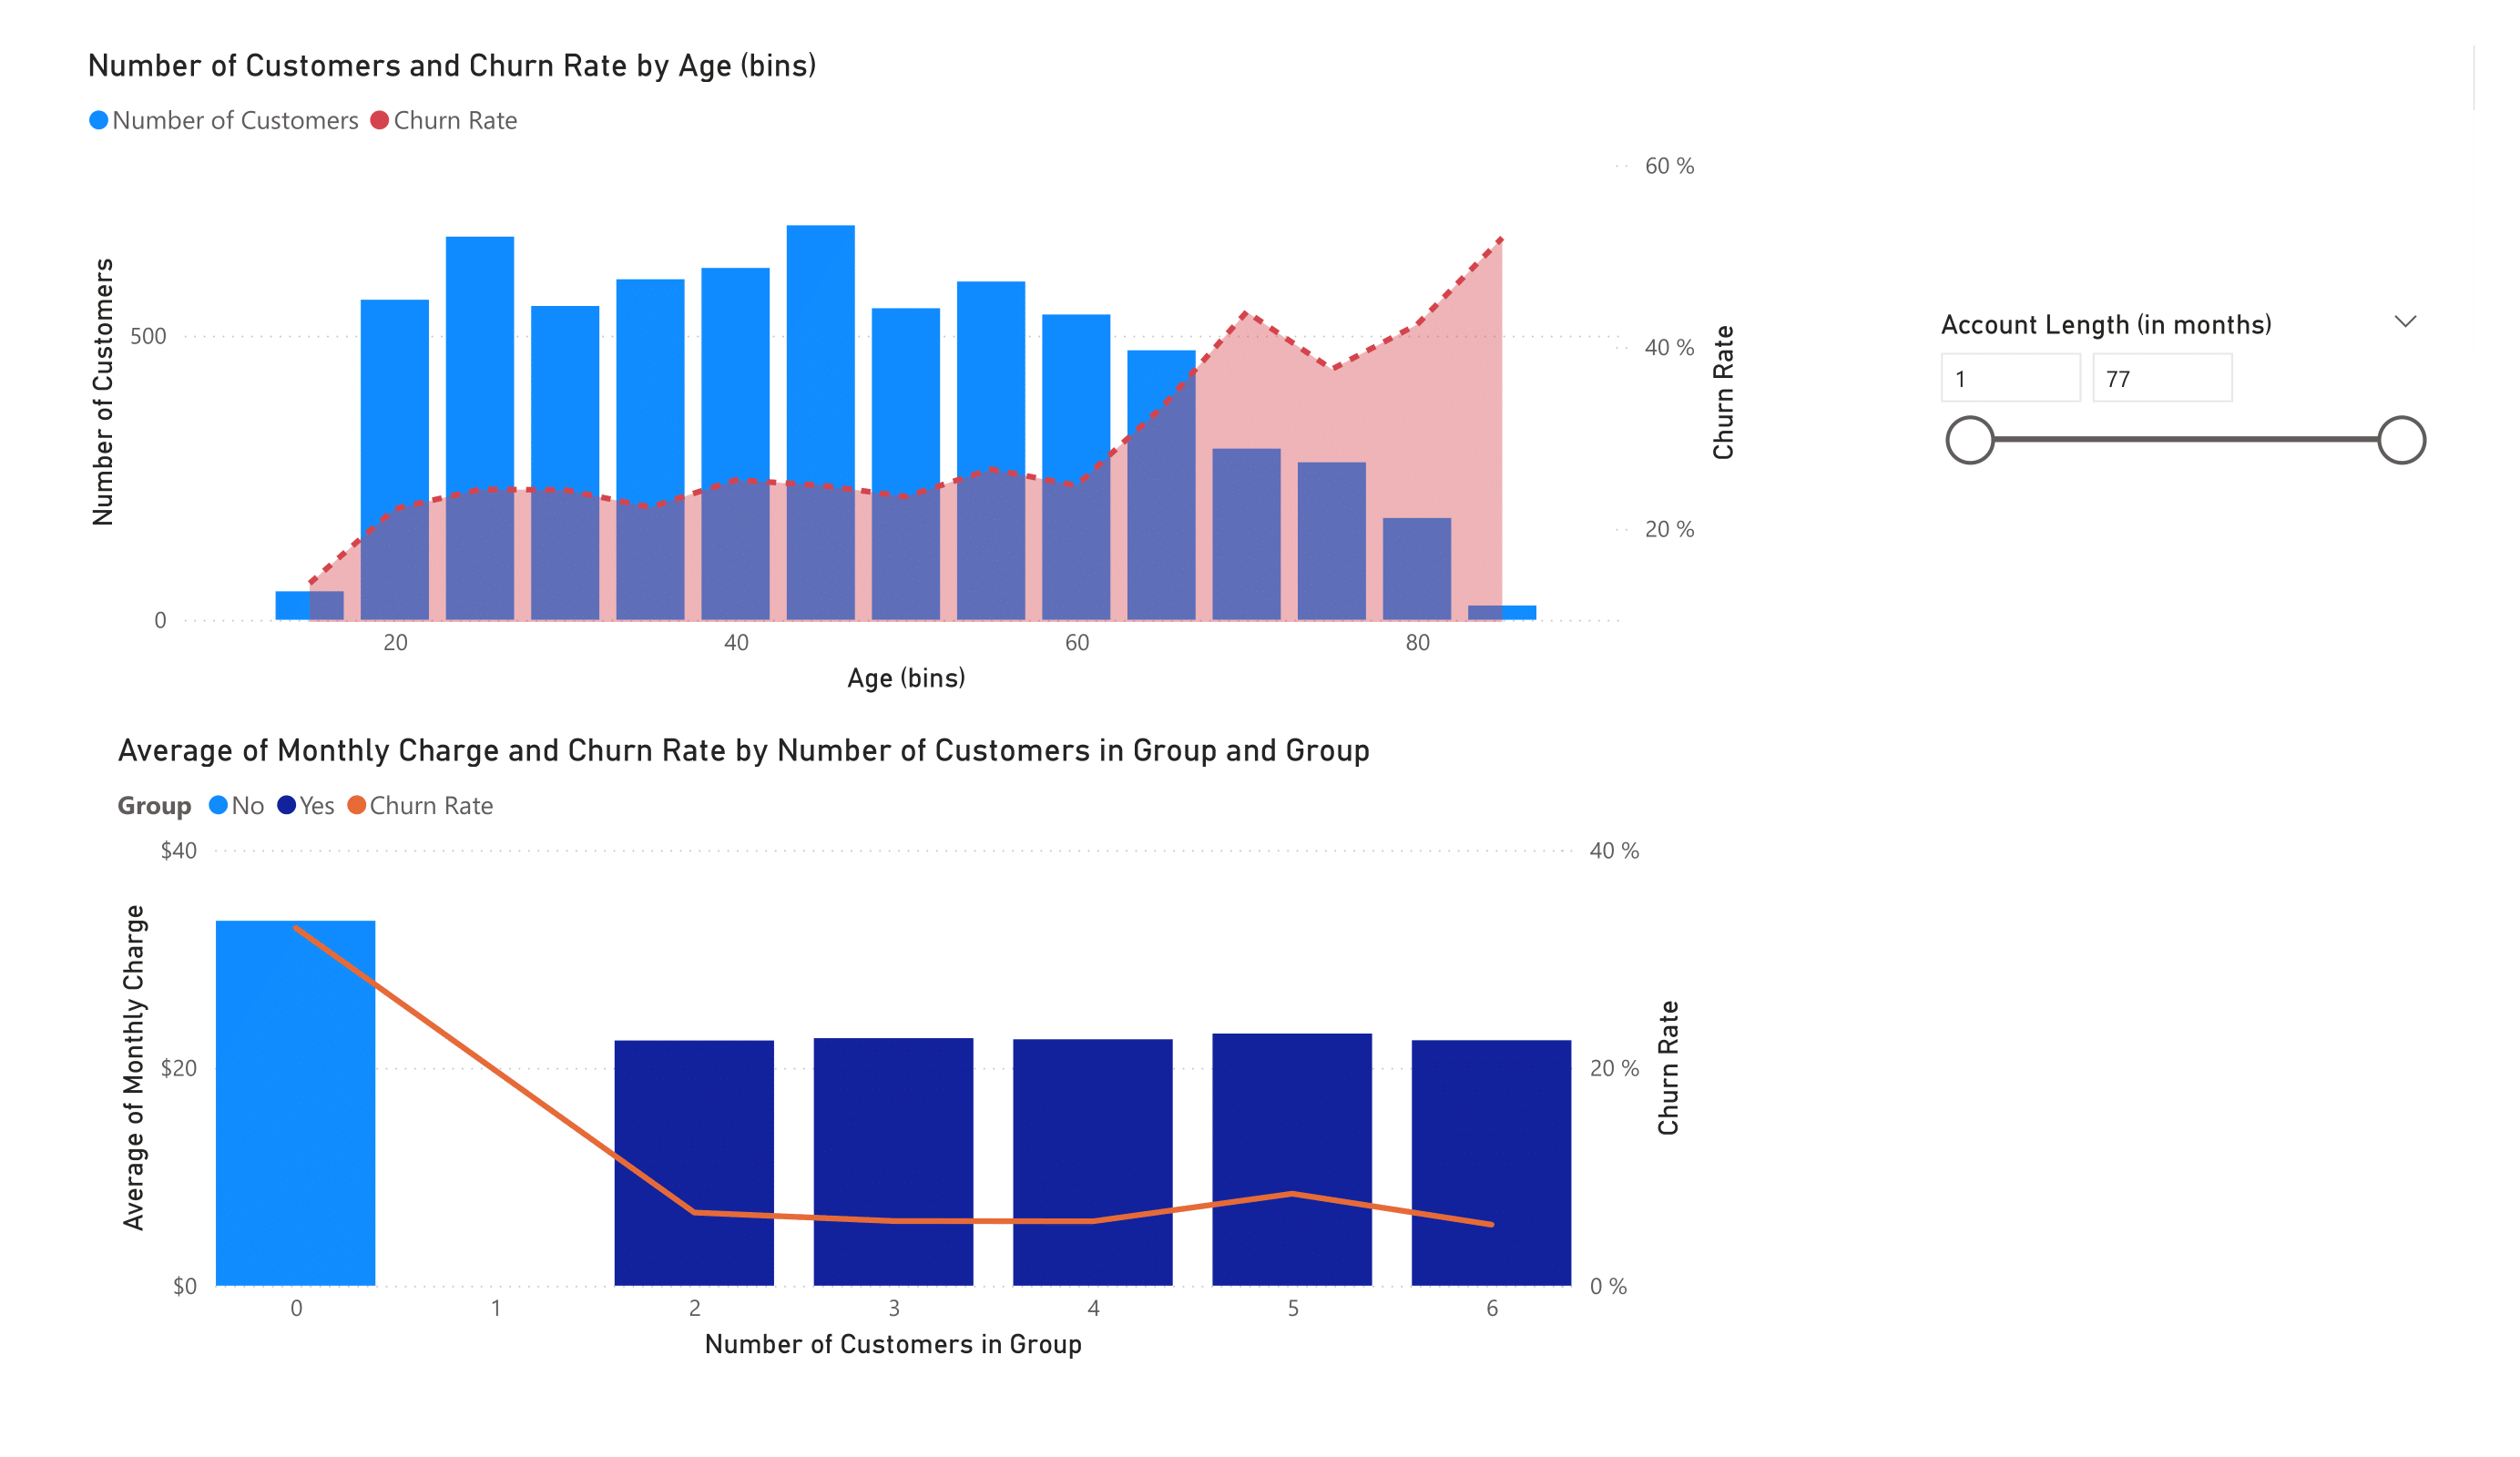

The dashboard page shown, as its layout file describes it:
{"tool":"powerbi","page":{"name":"Age groups","canvas":[1280,720],"ordinal":6},"visuals":[{"type":"lineStackedColumnComboChart","fields":{"Category":["Databel - Data.Number of Customers in Group"],"Y":["Avg(Databel - Data.Monthly Charge)"],"Series":["Databel - Data.Group"],"Y2":["Databel - Data.Churn Rate"]},"box":[20.5,23.5,526.4,337.3],"z":0},{"type":"slicer","fields":{"Values":["Databel - Data.Account Length (in months)"]},"box":[654.5,24.7,526.9,336.2],"z":1},{"type":"lineStackedColumnComboChart","fields":{"Category":["Databel - Data.Age (bins)"],"Y":["Databel - Data.Number of costumers"],"Y2":["Databel - Data.Churn Rate"]},"box":[14.7,360.7,608.6,346.1],"z":2}]}

Visuals, with their boxes in screenshot pixels (x1, y1, x2, y2):
lineStackedColumnComboChart - Databel - Data.Number of Customers in Group x Avg(Databel - Data.Monthly Charge): bbox=[85, 90, 1084, 730]
slicer - Databel - Data.Account Length (in months): bbox=[1288, 92, 2288, 730]
lineStackedColumnComboChart - Databel - Data.Age (bins) x Databel - Data.Number of costumers: bbox=[74, 729, 1229, 1386]
